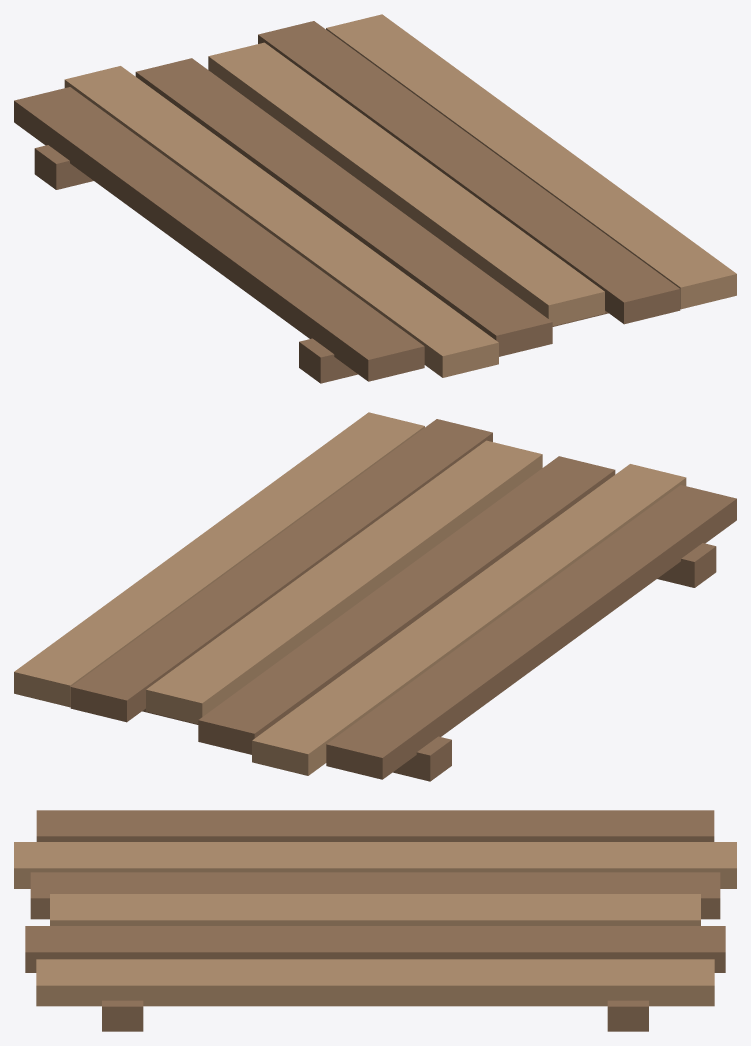
File: Cave_Planks.fbx
The picture shows the model from 3 angles, top to bottom: view 1: azimuth 30°, elevation 25°; view 2: azimuth 150°, elevation 25°; view 3: azimuth 270°, elevation 25°; orthographic projection. The views are drawn at different scales.
Visible parts, largest first — view 1: Cave_Planks; view 2: Cave_Planks; view 3: Cave_Planks.
Part boxes in pixels (x1,y1,x2,y2): Cave_Planks: (14,14,736,383); Cave_Planks: (14,412,736,781); Cave_Planks: (14,810,736,1031).
Size of the model in its own units: 1.9 by 0.2259 by 3.15.
